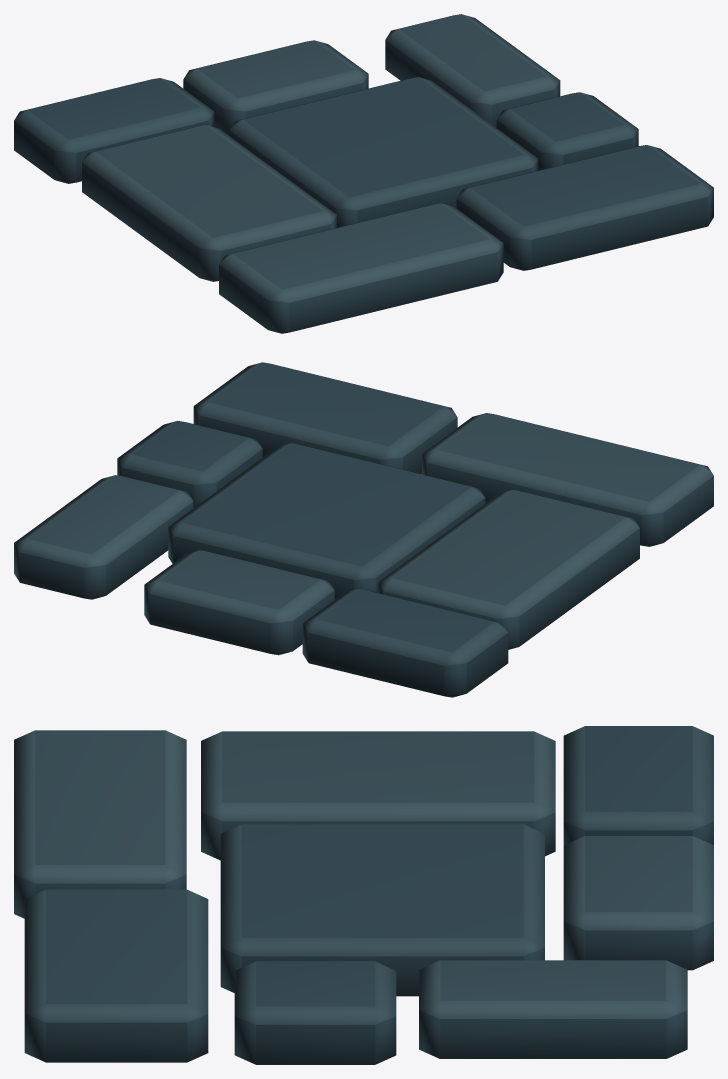
The model's file is stone_path_4.fbx.
The picture shows the model from 3 angles, top to bottom: view 1: azimuth 30°, elevation 25°; view 2: azimuth 150°, elevation 25°; view 3: azimuth 270°, elevation 25°; orthographic projection. The views are drawn at different scales.
Visible parts, largest first — view 1: stone_path_4; view 2: stone_path_4; view 3: stone_path_4.
Boxes of the visible parts, <box> form: stone_path_4: <box>14,14,713,333</box>; stone_path_4: <box>14,362,713,697</box>; stone_path_4: <box>14,726,713,1064</box>.
Bounding box in the file's own units: 200 × 18.28 × 198.
